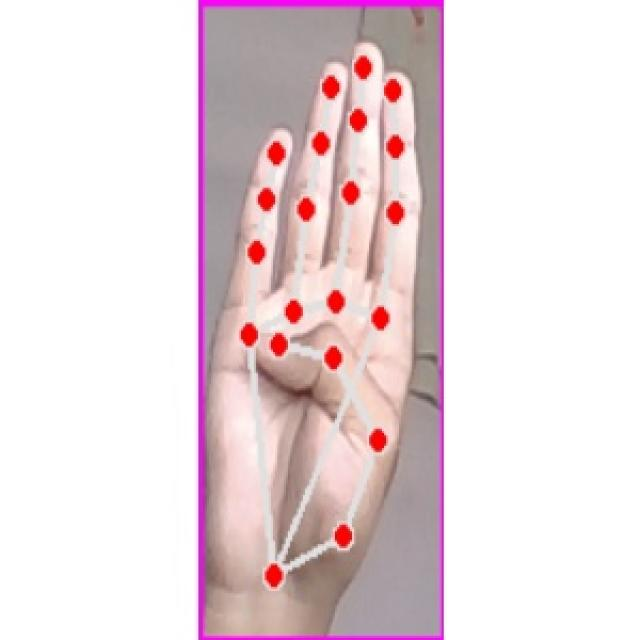B: (212, 36, 433, 607)
